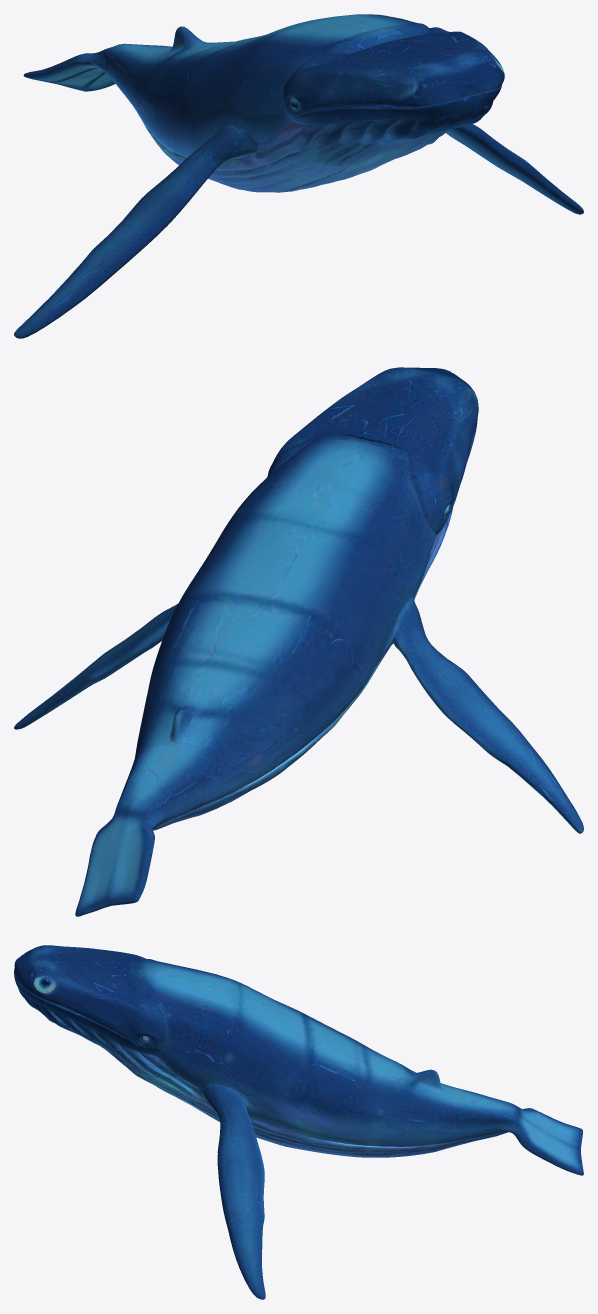
The model's file is cos_whale.glb.
3 views of the same model, one above another, from view 1: azimuth 30°, elevation 25°; view 2: azimuth 150°, elevation 25°; view 3: azimuth 270°, elevation 25° (orthographic). The views are drawn at different scales.
Bounding box in the file's own units: 1.65 × 0.8903 × 1.9.
1 material, 1 textured.
